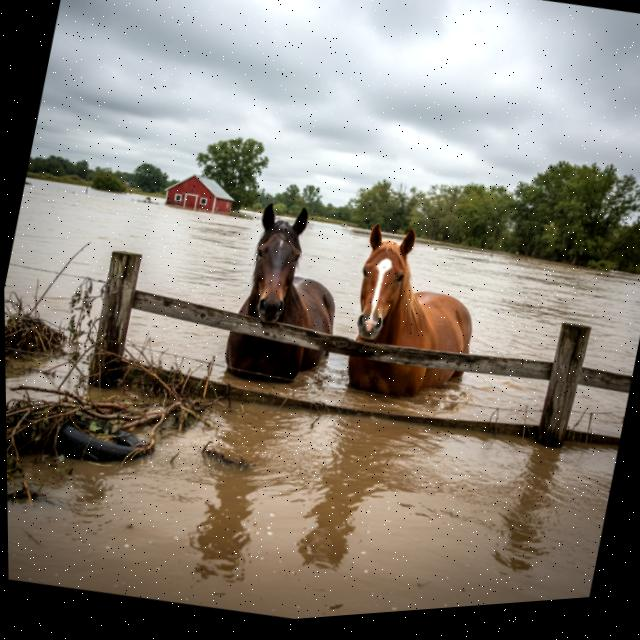horse: (328, 205, 505, 422), (206, 185, 366, 403)
